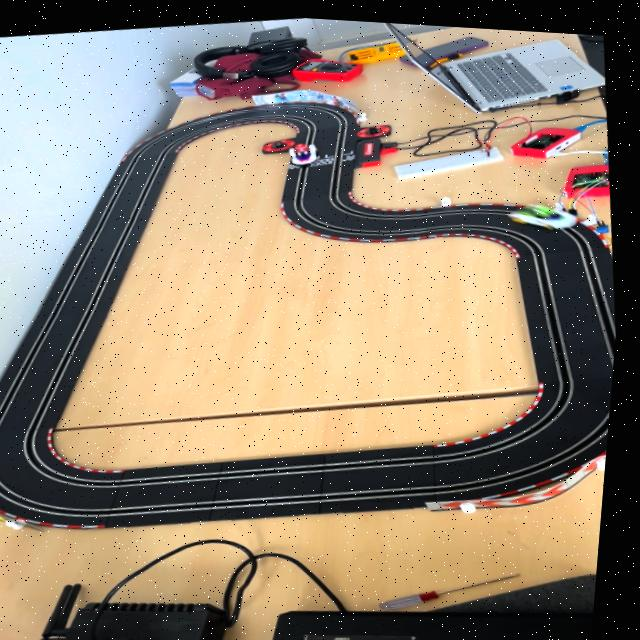mario: (287, 135, 325, 165)
yoshi: (506, 188, 586, 231)
